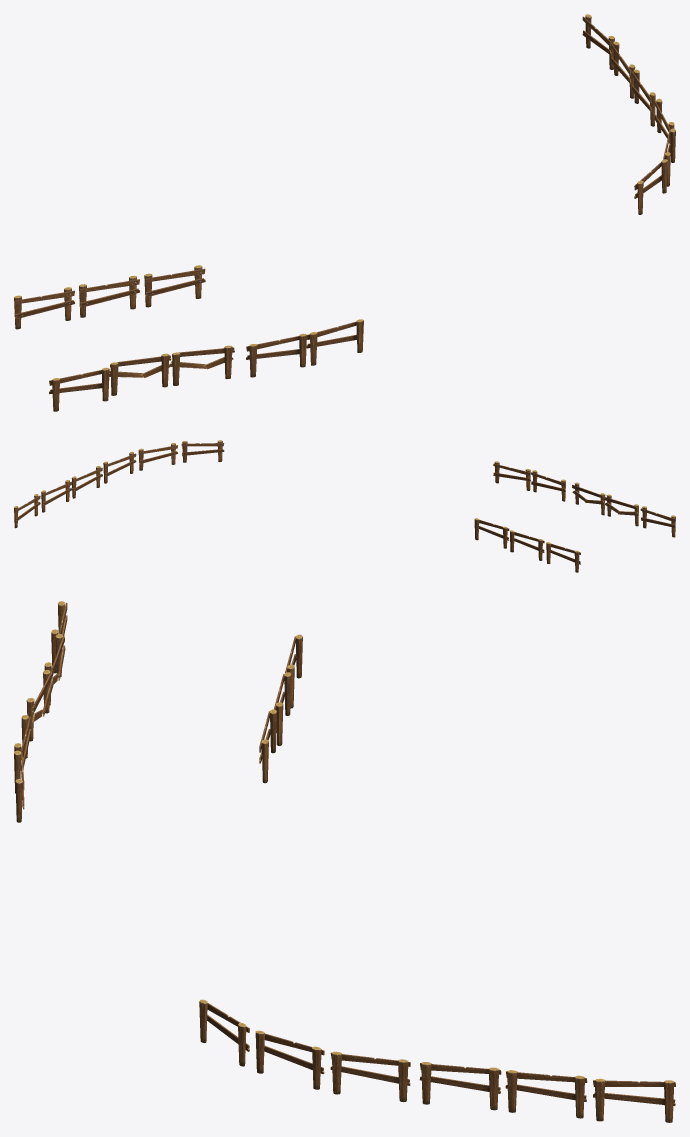
Rendered from Area_10_31.fbx.
The picture shows the model from 3 angles, top to bottom: view 1: azimuth 30°, elevation 25°; view 2: azimuth 150°, elevation 25°; view 3: azimuth 270°, elevation 25°; orthographic projection. The views are drawn at different scales.
Parts seen in each view (by area): view 1: Area_10_31; view 2: Area_10_31; view 3: Area_10_31.
Part boxes in pixels (x1=…): Area_10_31: x1=14, y1=14, x2=675, y2=411; Area_10_31: x1=14, y1=440, x2=675, y2=572; Area_10_31: x1=14, y1=601, x2=675, y2=1122.
Bounding box in the file's own units: 3592 × 152 × 2077.
